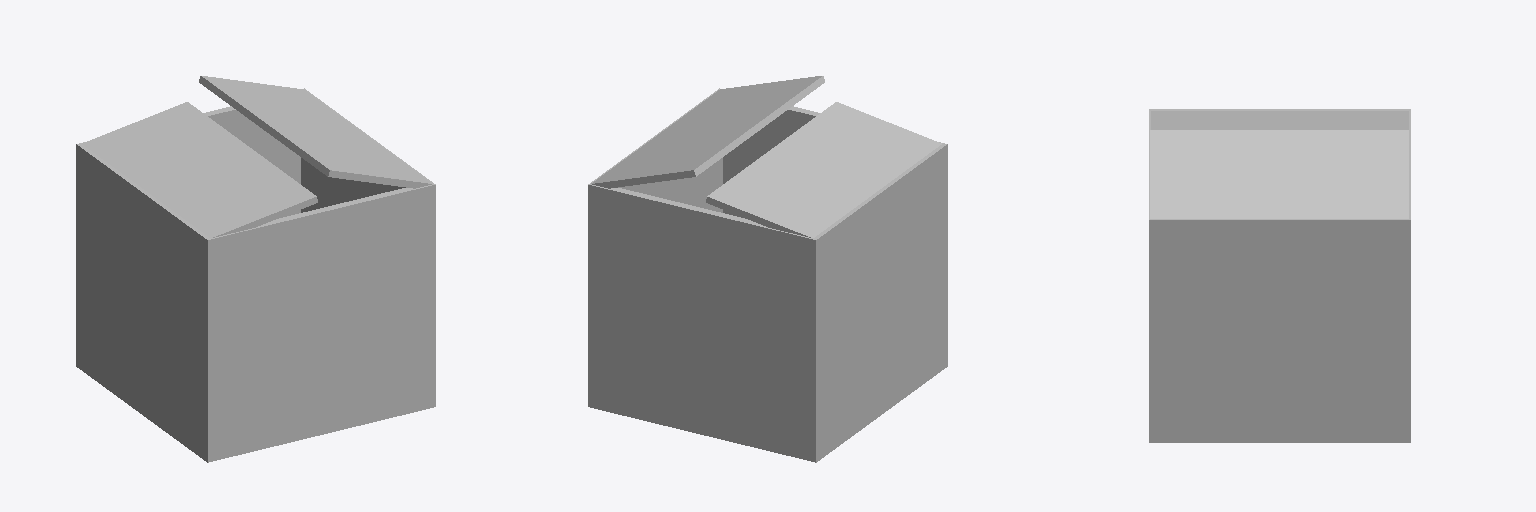
Rendered from tiny box closed.obj.
The picture shows the model from 3 angles: view 1: azimuth 30°, elevation 25°; view 2: azimuth 150°, elevation 25°; view 3: azimuth 270°, elevation 25°; orthographic projection.
Visible parts, largest first — view 1: Tiny_box_closed; view 2: Tiny_box_closed; view 3: Tiny_box_closed.
Boxes of the visible parts, box(x1,y1,x2,y2) form: Tiny_box_closed: box(76, 76, 435, 462); Tiny_box_closed: box(588, 76, 947, 462); Tiny_box_closed: box(1149, 109, 1410, 442).
Size of the model in its own units: 27.56 by 30.22 by 27.49.